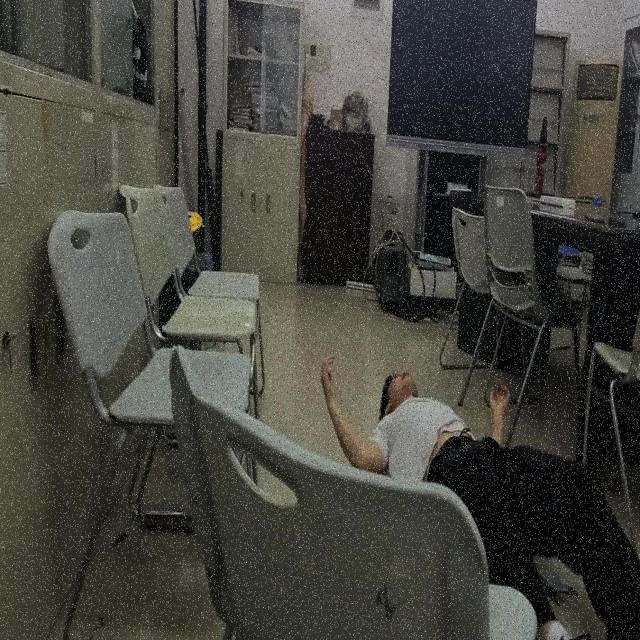fall: (317, 359, 640, 639)
